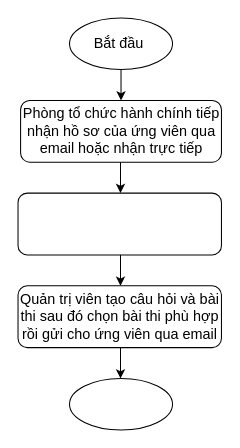
This 240x448 diagram has some shape labels left out. Here are the shapes that lost their labels. From the top down, the box of each, then its label:
(17, 192, 221, 255): Quản trị viên sẽ nhập thông tin ứng viên vào trong hệ thống
(68, 377, 173, 430): Kết thúc
